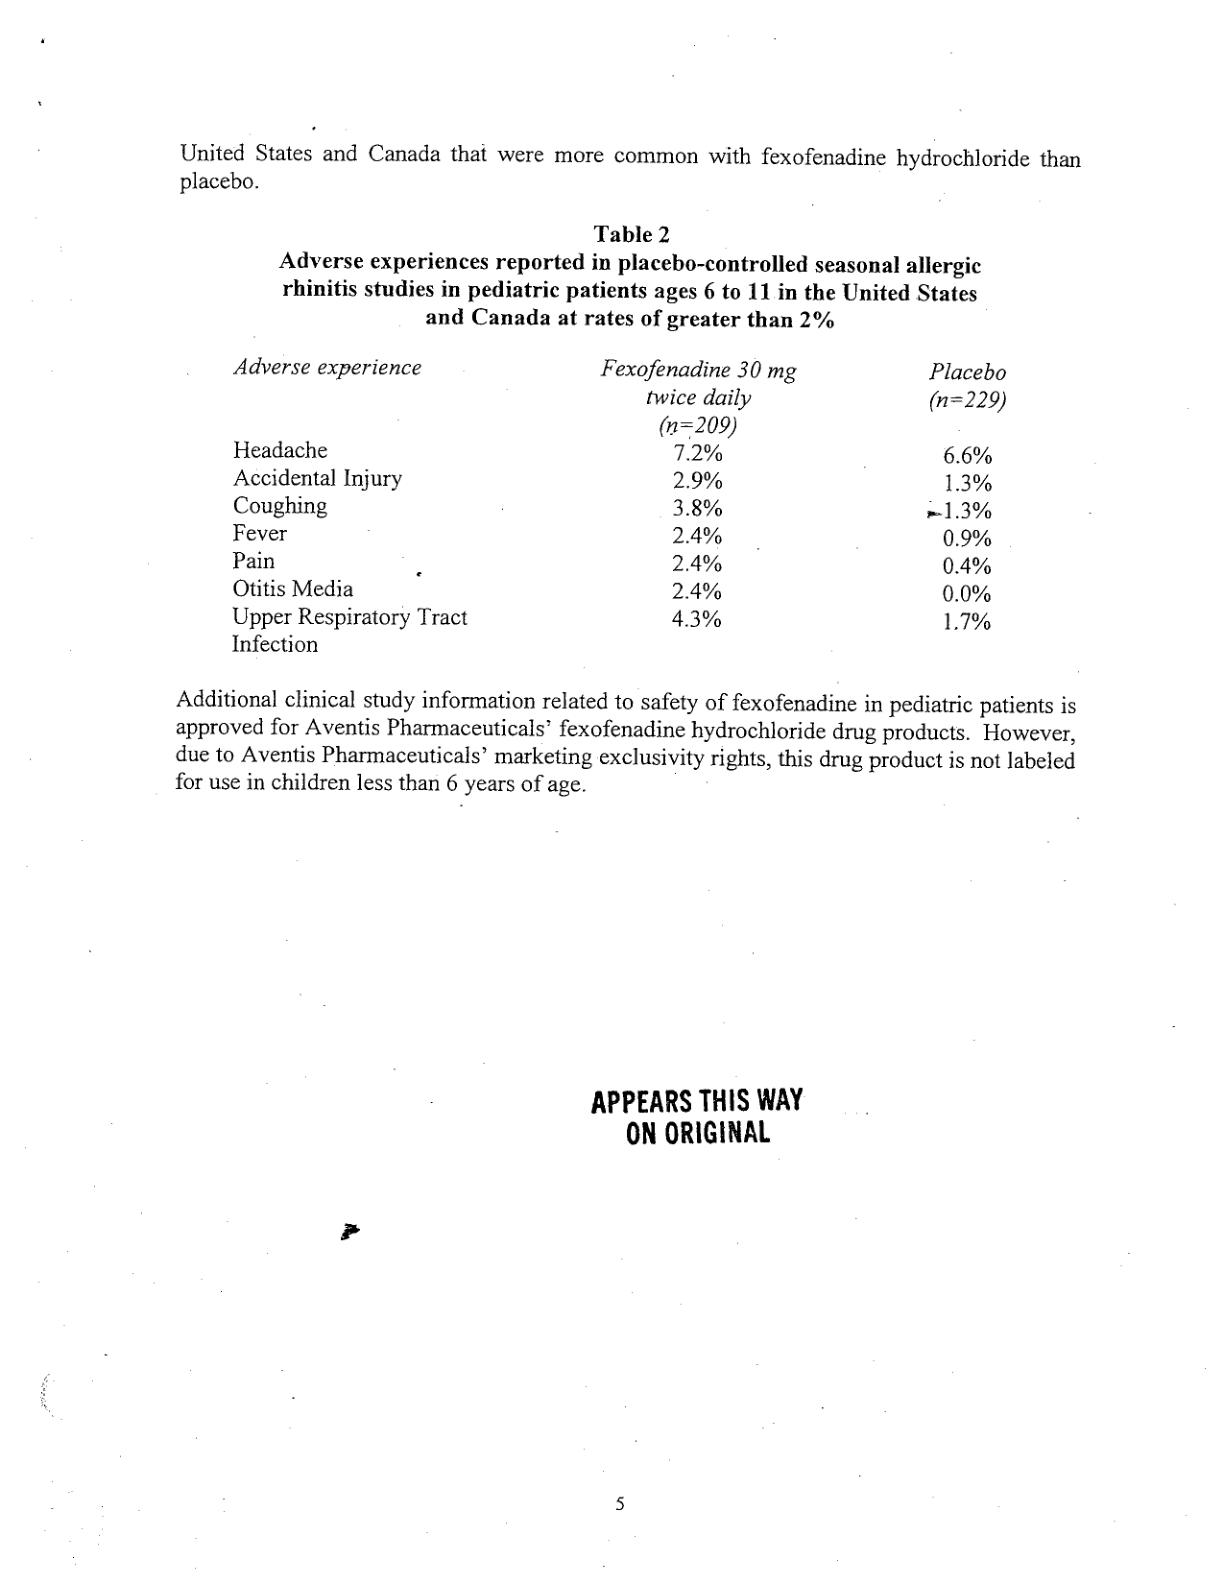nolines: (228, 352, 1011, 652)
